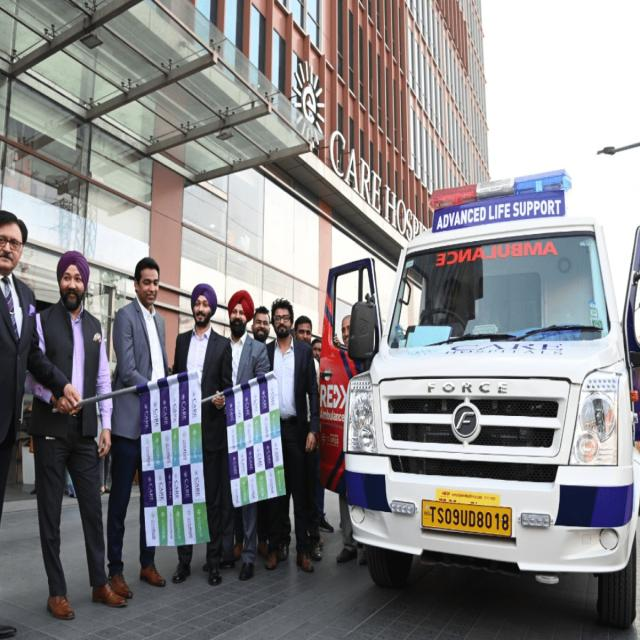emergency: (330, 170, 640, 628)
